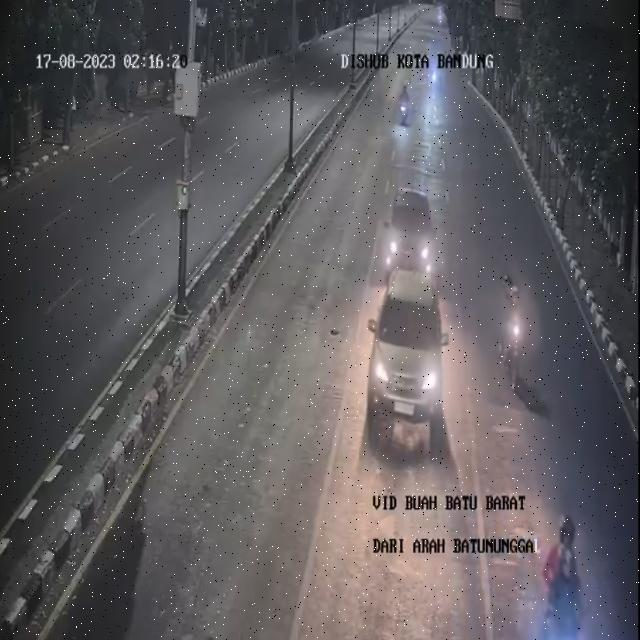cars: (360, 266, 468, 460), (376, 183, 454, 305)
motorcycle: (538, 503, 592, 640), (494, 268, 544, 402), (396, 77, 415, 135)
